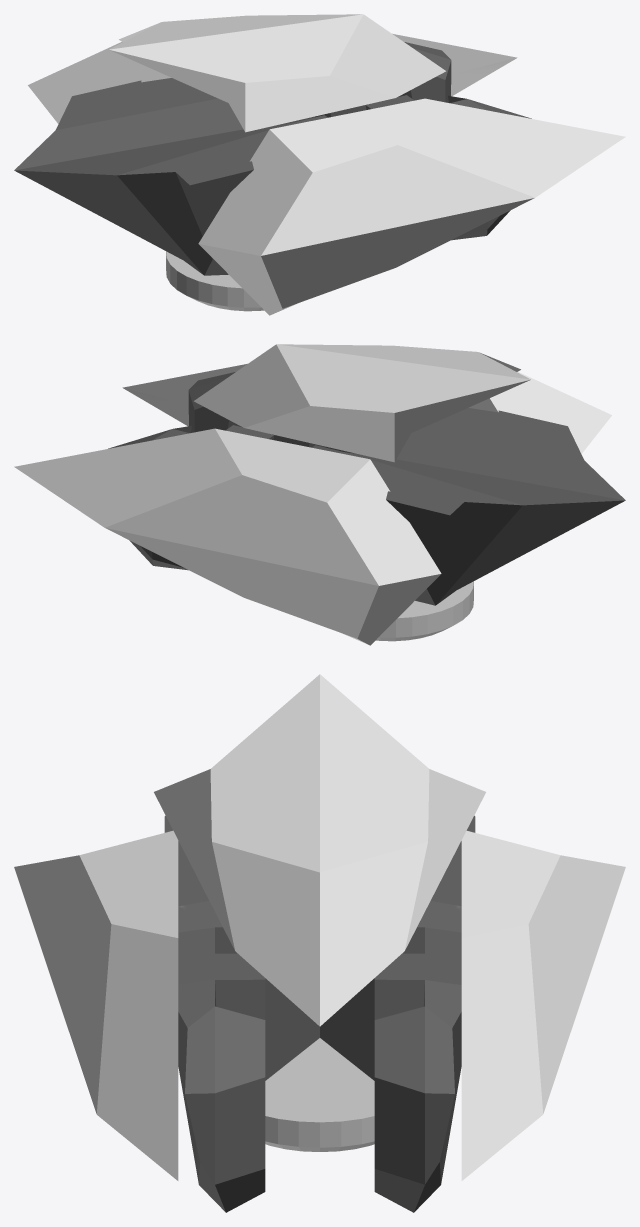
File: TKRtwo.fbx
3 renders of one model, top to bottom at view 1: azimuth 30°, elevation 25°; view 2: azimuth 150°, elevation 25°; view 3: azimuth 270°, elevation 25°, orthographic. The views are drawn at different scales.
Visible parts, largest first — view 1: Cube; view 2: Cube; view 3: Cube.
Part boxes in pixels (box(x1,y1,x2,y2)): Cube: box(14, 14, 625, 315); Cube: box(14, 344, 625, 645); Cube: box(14, 674, 625, 1212).
Bounding box in the file's own units: 772 × 353 × 559.
1 material, 1 textured.
